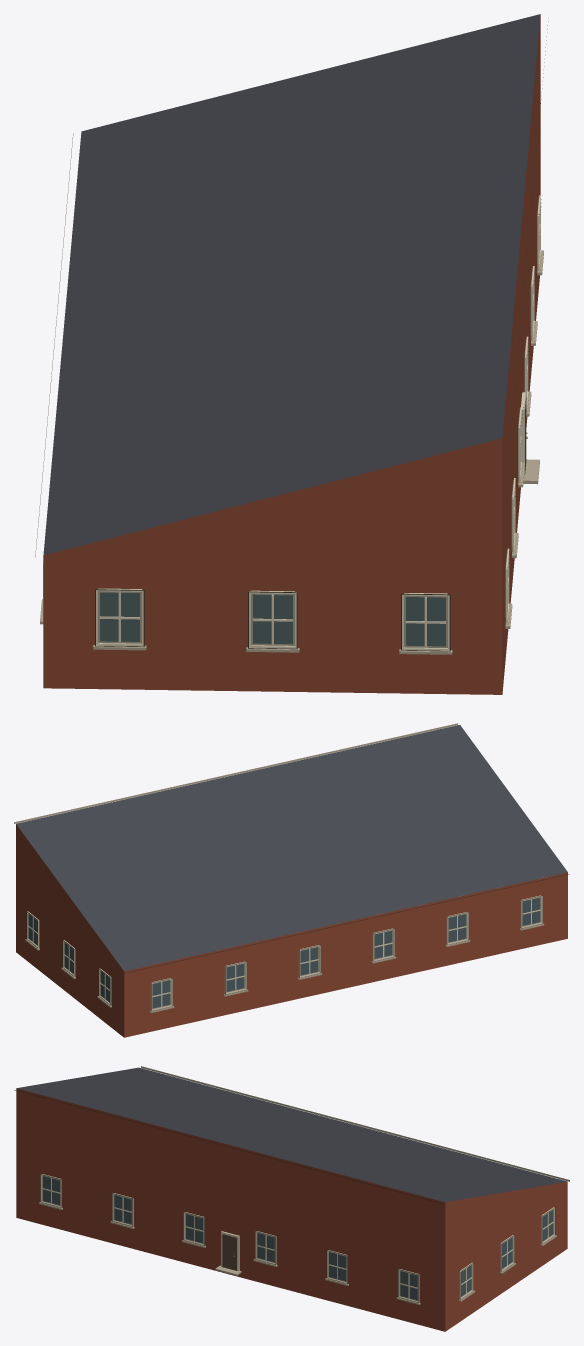
The picture shows the model from 3 angles, top to bottom: view 1: azimuth 30°, elevation 25°; view 2: azimuth 150°, elevation 25°; view 3: azimuth 270°, elevation 25°; orthographic projection. The views are drawn at different scales.
Parts seen in each view (by area): view 1: -2_-1_318266371_1; view 2: -2_-1_318266371_1; view 3: -2_-1_318266371_1.
Part boxes in pixels (left/top/right/bottom): -2_-1_318266371_1: left=35, top=14, right=548, bottom=694; -2_-1_318266371_1: left=14, top=723, right=569, bottom=1037; -2_-1_318266371_1: left=14, top=1066, right=569, bottom=1331.
Bounding box in the file's own units: 27.89 × 8.42 × 32.73.
